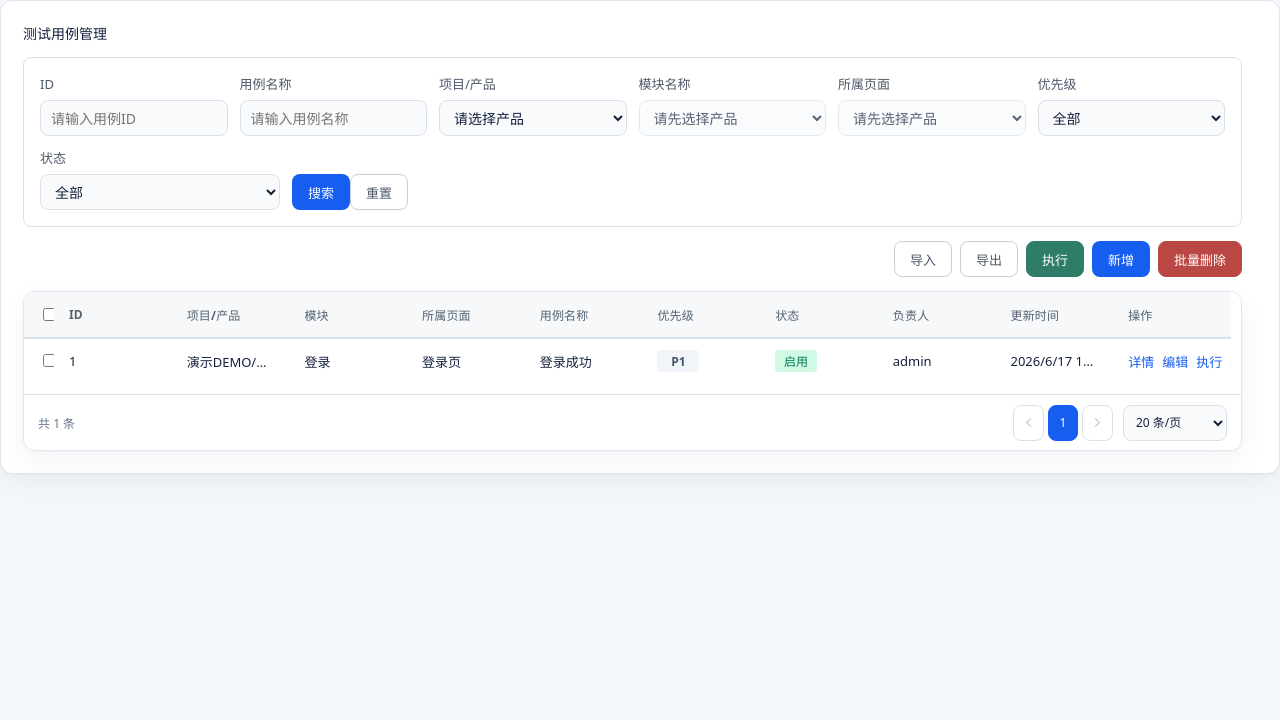
UIAutomationPage 测试用例页 › 用例没有关联步骤时阻止创建执行批次
This screenshot has width=1280, height=720.
Expected: the text "登录成功" is shown, [525, 338, 642, 384]
Step 1. Click the button with aria-label "执行用例 登录成功" → (1209, 361), box [1196, 343, 1222, 379]
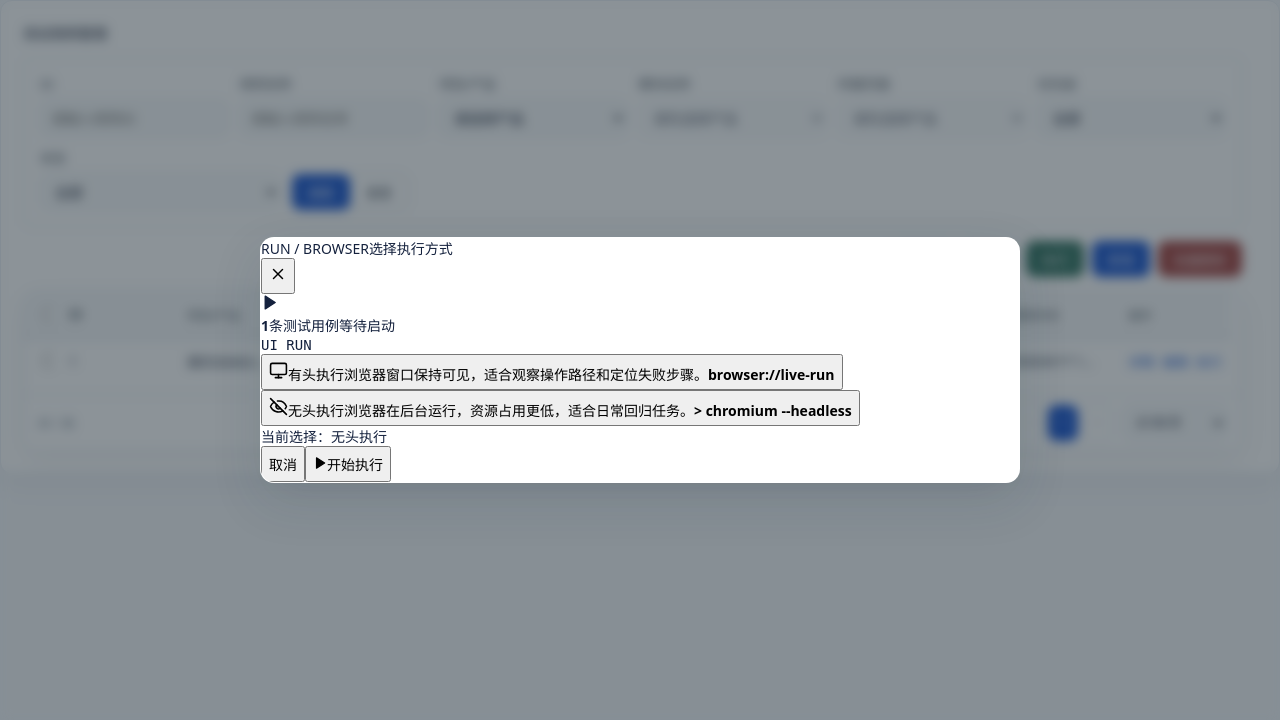
Step 2. Click the button "开始执行" → (348, 464), box [305, 446, 391, 482]
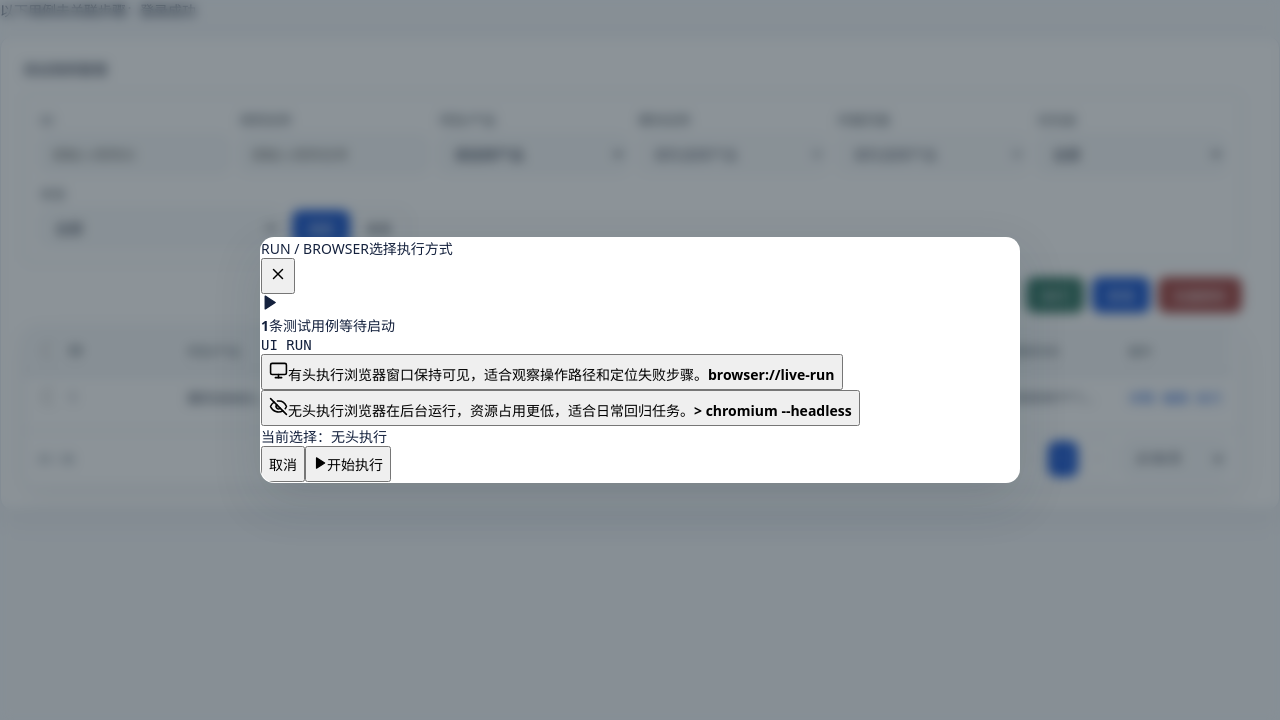
Expected: the message reads "以下用例未关联步骤：登录成功", [0, 1, 196, 20]
